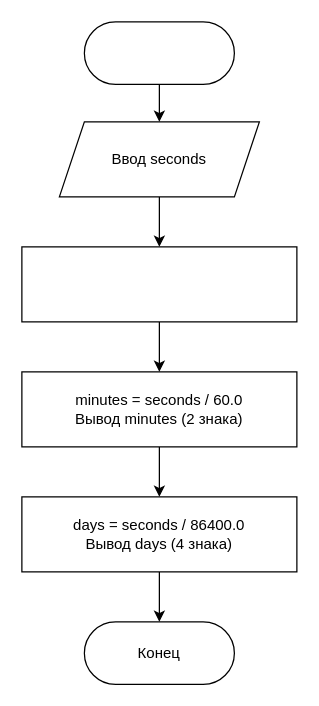
The diagram is 319 pixels wide and 706 high, and some of its shapes have lost their labels. The shapes that lost their labels are listed below. From the top down, each one's centre as x and y in pixels, then its label:
pixel 158 52: Начало
pixel 159 284: hours = seconds / 3600.0 Вывод hours (2 знака)
